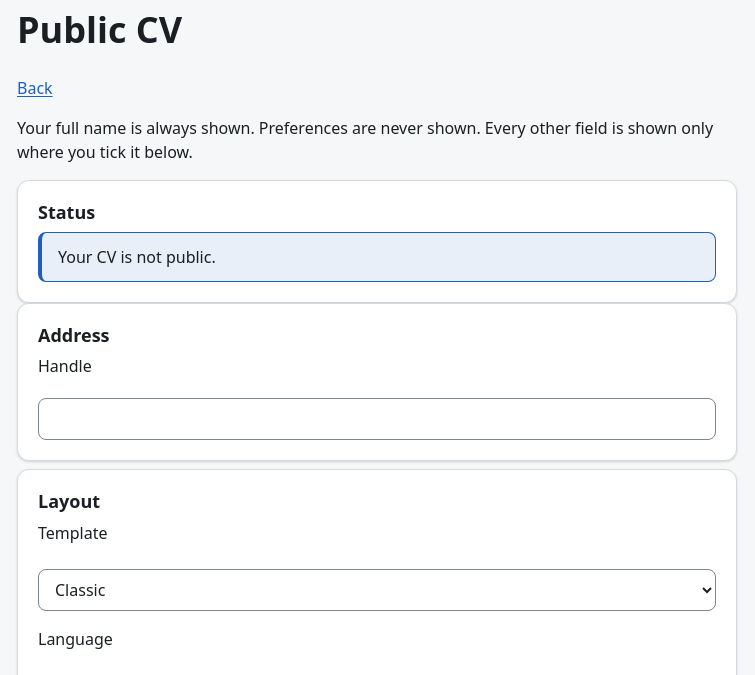
Test case: the public CV page › lower-cases the handle and sends no request for a form that is wrong
This screenshot has width=755, height=675.
Type "Ad" into the field labelled "Handle" at (377, 419), box x1=38 y1=398 x2=716 y2=440
Wait 400 ms
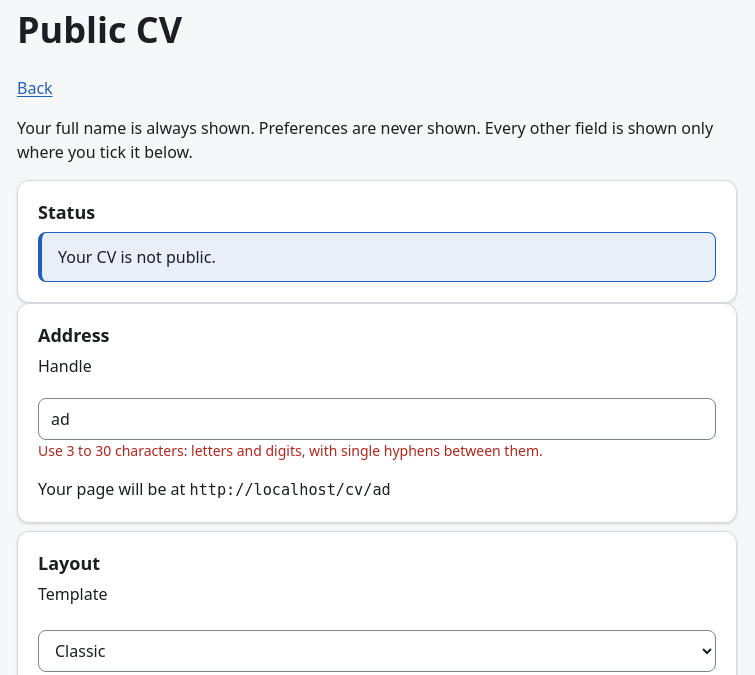
Expected: the text "Use 3 to 30 characters: letters and digits, with single hyphens between them." is shown, x1=38 y1=441 x2=543 y2=460
